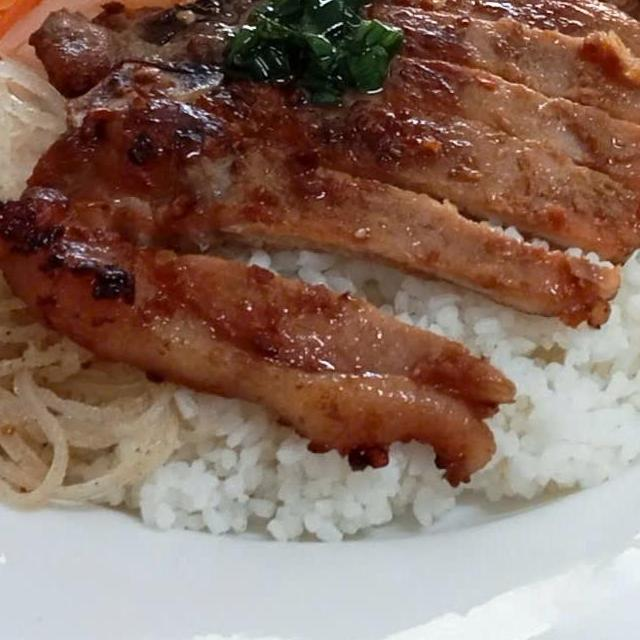bi: (0, 118, 201, 523)
com: (465, 0, 640, 517), (64, 366, 475, 554)
com suon: (0, 0, 640, 640)
dua chua: (0, 0, 239, 237)
suon: (0, 0, 640, 493)
